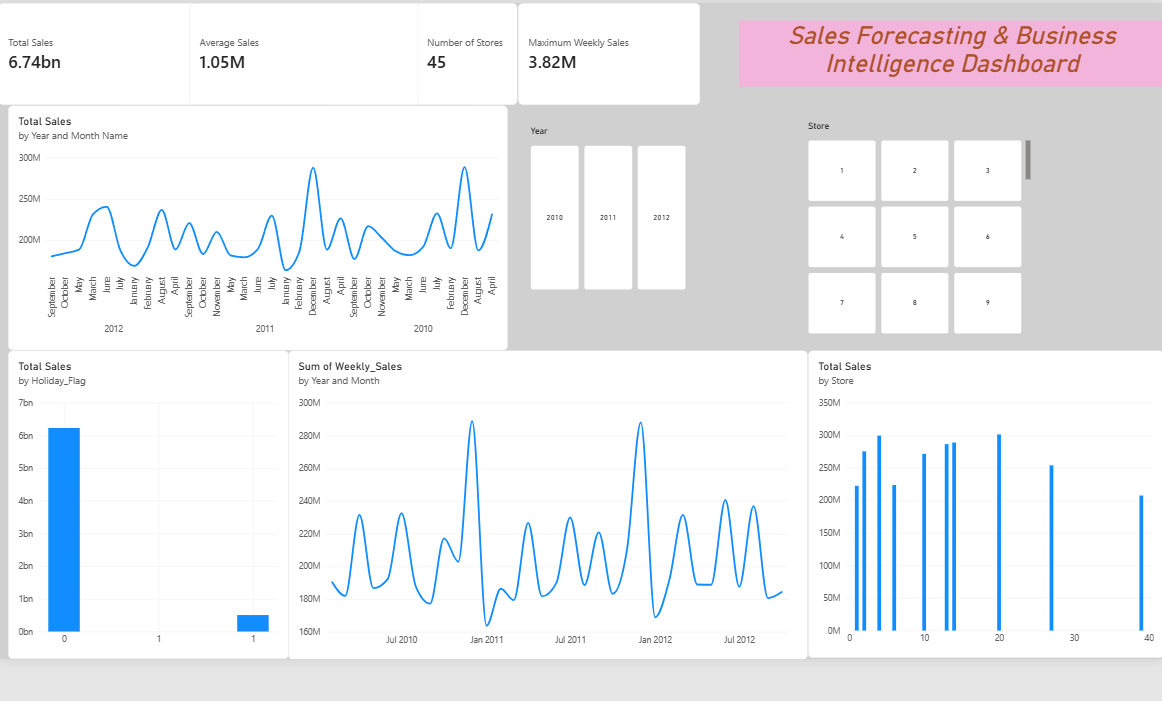

The page's visual inventory and layout, read from the dashboard file:
{"tool":"powerbi","page":{"name":"Page 1","canvas":[1920,1080],"ordinal":0},"visuals":[{"type":"cardVisual","fields":{"Data":["Walmart.Total Sales"]},"box":[0,0,337.6,168.8],"z":0},{"type":"cardVisual","fields":{"Data":["Walmart.Average Sales"]},"box":[314.9,0,391.1,168.8],"z":1000},{"type":"cardVisual","fields":{"Data":["Walmart.Number of Stores"]},"box":[689.5,0,166.7,168.8],"z":2000},{"type":"cardVisual","fields":{"Data":["Walmart.Maximum Weekly Sales"]},"box":[856.3,0,300.5,168.8],"z":3000},{"type":"lineChart","fields":{"Category":["Walmart.Year","Walmart.Month Name"],"Y":["Walmart.Total Sales"]},"box":[16.5,168.8,823.3,403.4],"z":4000},{"type":"lineChart","fields":{"Category":["Walmart.Date.Variation.Date Hierarchy.Year","Walmart.Date.Variation.Date Hierarchy.Month"],"Y":["Sum(Walmart.Weekly_Sales)"]},"box":[477.5,572.2,856.3,508.4],"z":6000},{"type":"clusteredColumnChart","fields":{"Category":["Walmart.Holiday_Flag"],"Y":["Walmart.Total Sales"]},"box":[16,572,462,508],"z":7000},{"type":"columnChart","fields":{"Category":["Walmart.Store"],"Y":["Walmart.Total Sales"]},"box":[1333.8,572.2,586.6,506.3],"z":8000},{"type":"advancedSlicerVisual","fields":{"Values":["Walmart.Store"]},"box":[1333.8,193.5,366.4,352],"z":9000},{"type":"advancedSlicerVisual","fields":{"Values":["Walmart.Year"]},"box":[876.8,201.7,257.3,271.7],"z":10000},{"type":"textbox","title":"Sales Forecasting & Business Intelligence Dashboard","box":[1220.6,28.8,699.8,220.2],"z":10001}]}

Visuals, with their boxes on the page's 1920x1080 design canvas (x1, y1, x2, y2). These are canvas units, not pixel positions in the 1162x701 screenshot, which may show the page scaled, cropped or inside an application window:
cardVisual - Walmart.Total Sales: <box>0,0,338,169</box>
cardVisual - Walmart.Average Sales: <box>315,0,706,169</box>
cardVisual - Walmart.Number of Stores: <box>690,0,856,169</box>
cardVisual - Walmart.Maximum Weekly Sales: <box>856,0,1157,169</box>
lineChart - Walmart.Year x Walmart.Month Name: <box>16,169,840,572</box>
lineChart - Walmart.Date.Variation.Date Hierarchy.Year x Walmart.Date.Variation.Date Hierarchy.Month: <box>478,572,1334,1081</box>
clusteredColumnChart - Walmart.Holiday_Flag x Walmart.Total Sales: <box>16,572,478,1080</box>
columnChart - Walmart.Store x Walmart.Total Sales: <box>1334,572,1920,1078</box>
advancedSlicerVisual - Walmart.Store: <box>1334,194,1700,546</box>
advancedSlicerVisual - Walmart.Year: <box>877,202,1134,473</box>
"Sales Forecasting & Business Intelligence Dashboard" textbox: <box>1221,29,1920,249</box>
